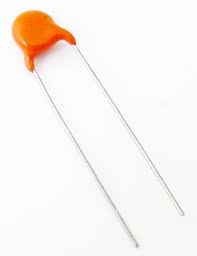ceramic capacitor: (1, 2, 107, 123)
